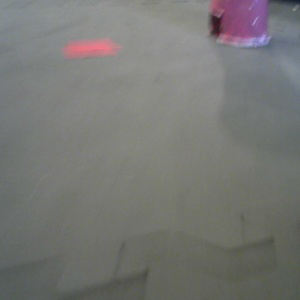right: (205, 1, 272, 47)
